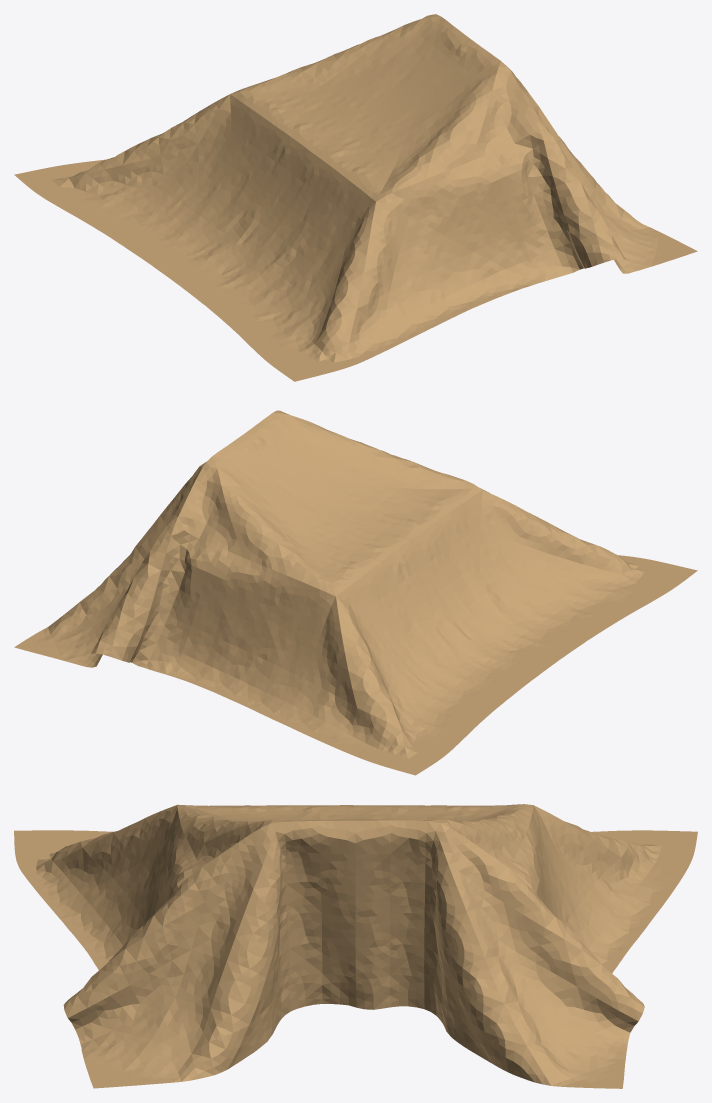
The model's file is level_2.glb.
3 views of the same model, one above another, from view 1: azimuth 30°, elevation 25°; view 2: azimuth 150°, elevation 25°; view 3: azimuth 270°, elevation 25° (orthographic). The views are drawn at different scales.
Visible parts, largest first — view 1: world; view 2: world; view 3: world.
Boxes of the visible parts, x1,y1,x2,y2 form: world: (14,14,697,381); world: (14,410,697,775); world: (14,804,697,1088).
Size of the model in its own units: 0.5397 by 0.1929 by 0.6034.
